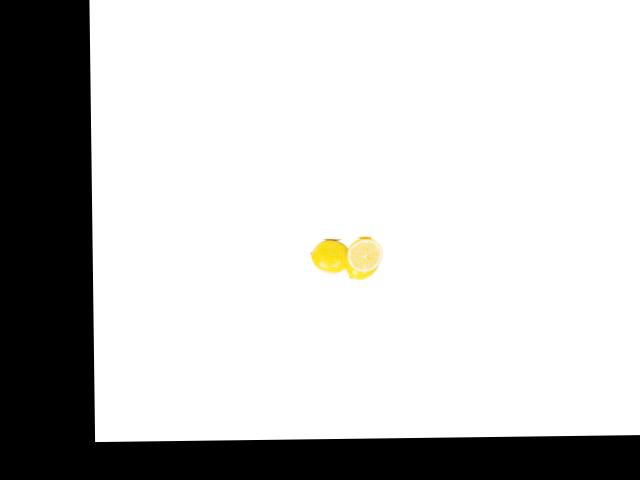lemon: (343, 246, 387, 283)
